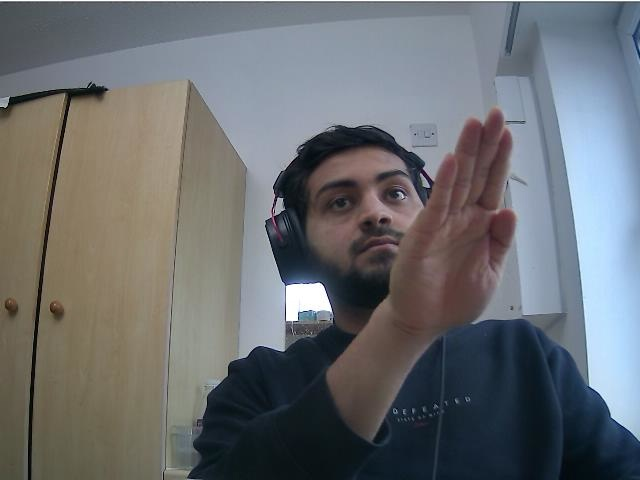up: (389, 107, 516, 327)
